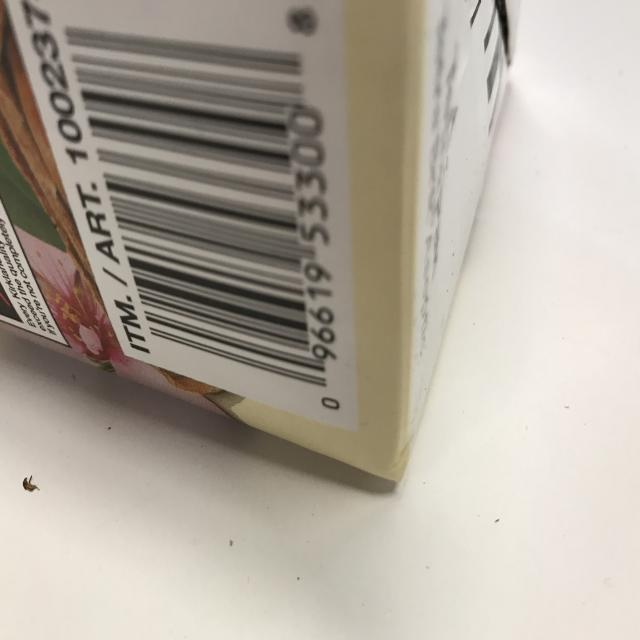cardboard: (0, 0, 549, 514)
